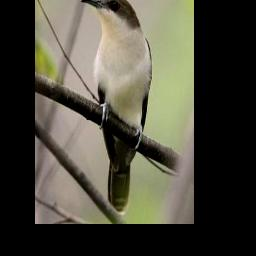Cuckoo: (80, 0, 153, 216)
